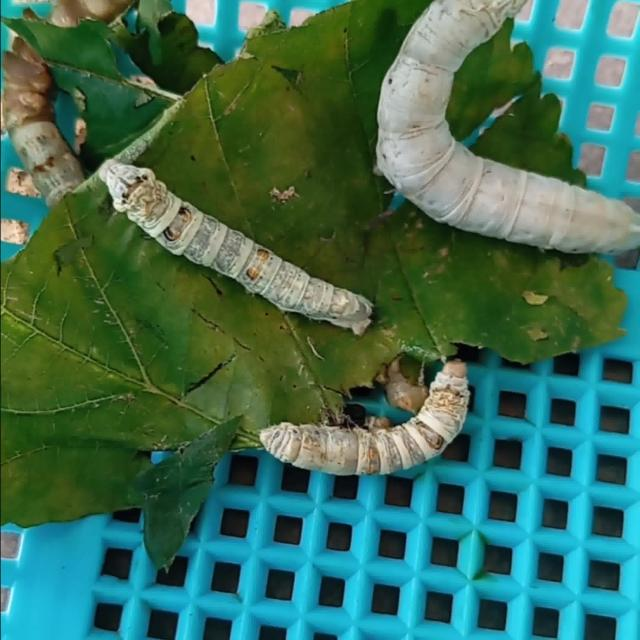Grasserie: (379, 4, 640, 283), (92, 153, 369, 348), (246, 357, 484, 486)
